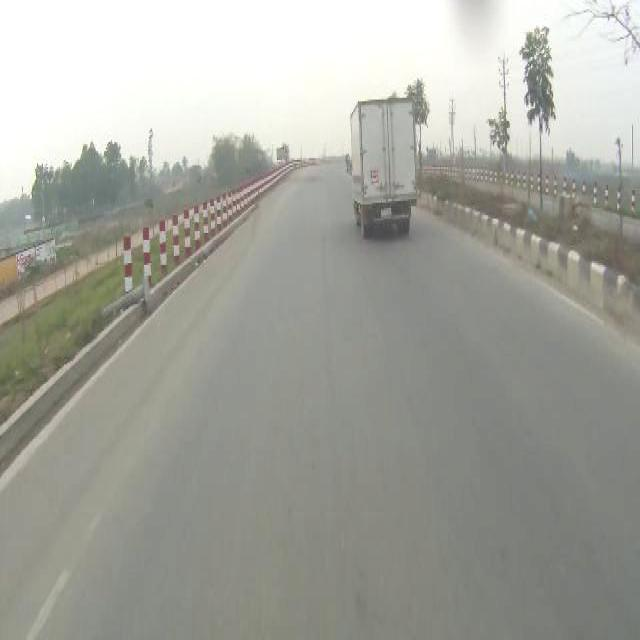TRUCK: (351, 99, 418, 238)
